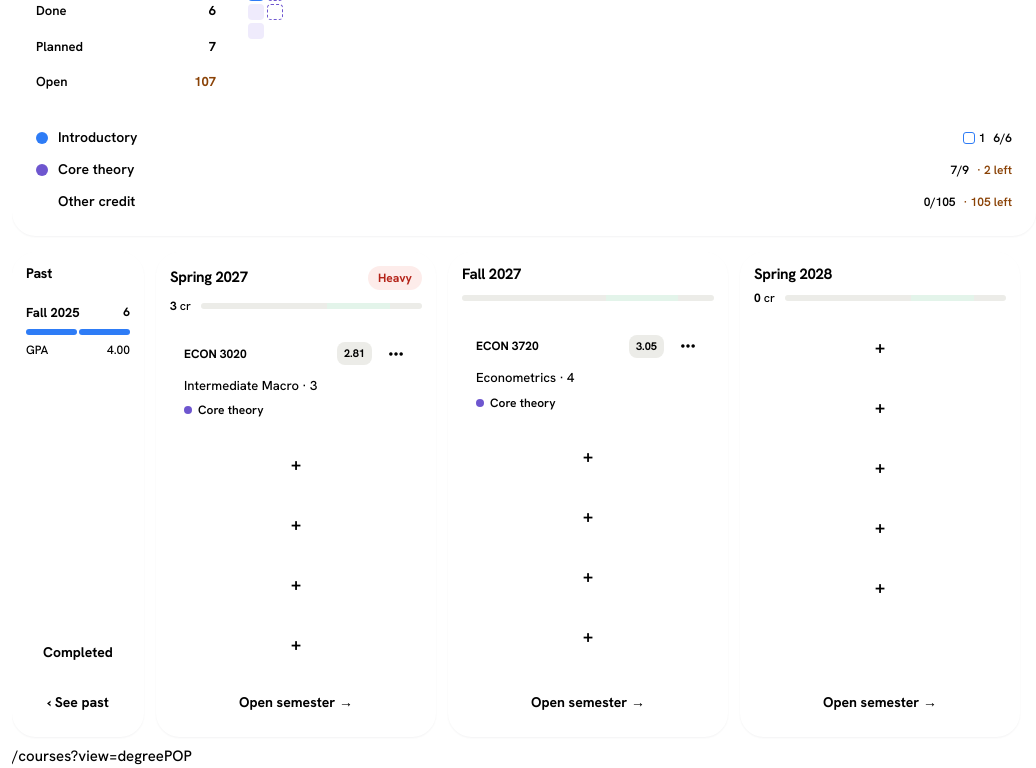
Test case: Past column › lists past terms and reveals them in full
(page scrolled)
Expected: the heading "Past" is shown, [26, 264, 52, 282]
Click the button "‹ See past". click: {"x": 78, "y": 702}
box: [26, 681, 130, 723]
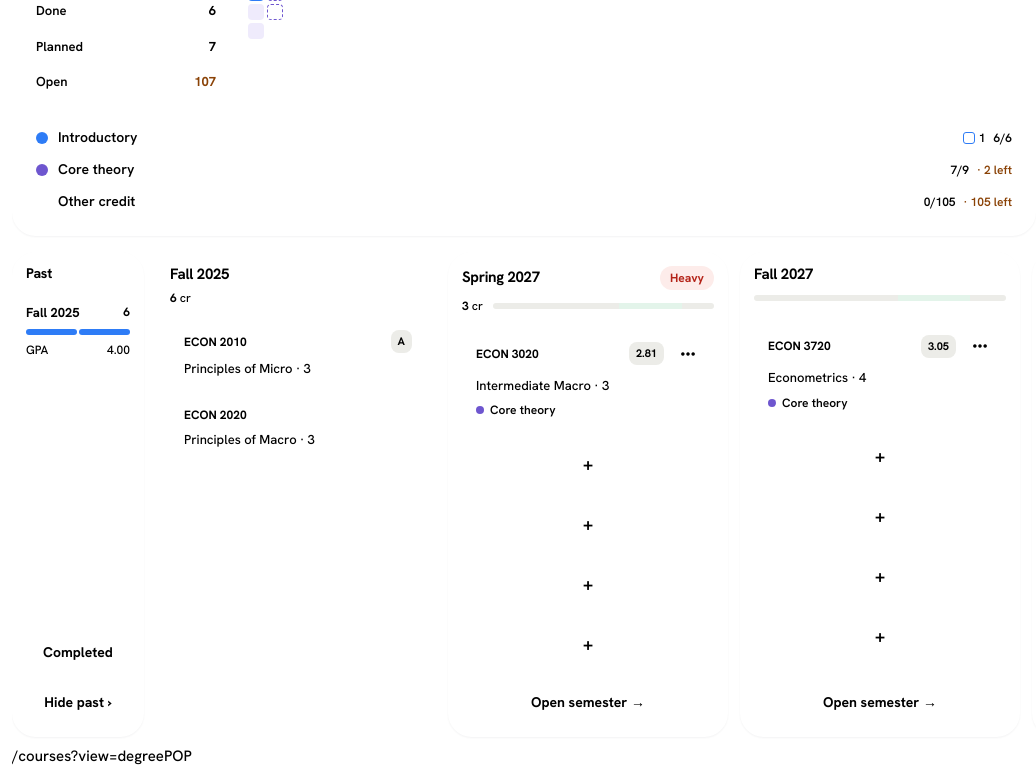
Expected: the element "Fall 2025" shows "ECON 2010", [184, 332, 383, 350]
